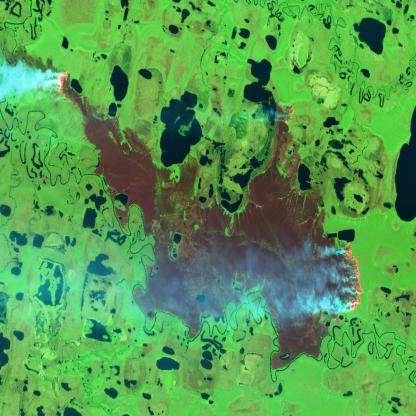fire: (50, 64, 88, 110), (342, 237, 364, 314), (275, 100, 304, 130)
